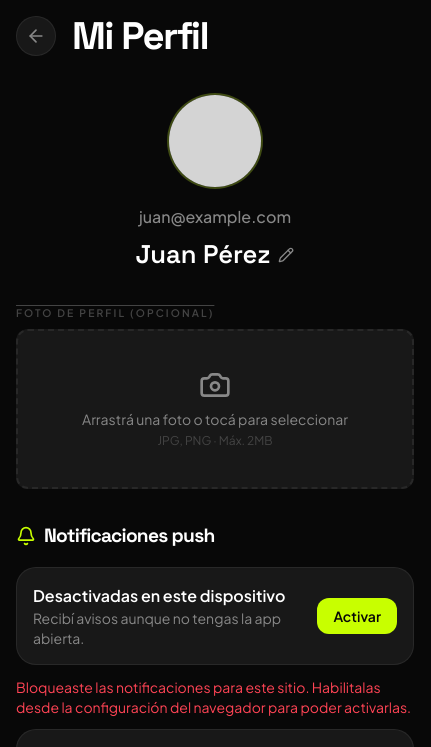
Test case: ProfileView › cancels name editing
Expected: the text "Juan Pérez" is shown, top-left (136, 237), bottom-right (270, 273)
Click the button "Juan Pérez".
click(215, 255)  # box top-left (55, 237), bottom-right (375, 273)
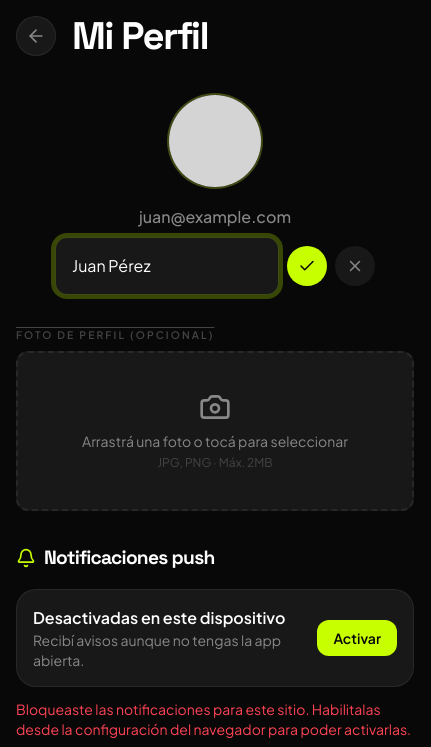
Click the button named "Cancelar edición".
click(355, 266)  # box top-left (335, 246), bottom-right (375, 286)
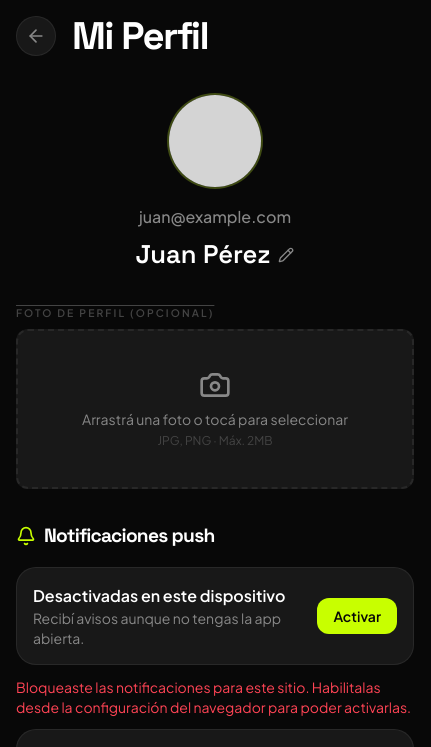
Result: the text "Juan Pérez" is shown at top-left (136, 237), bottom-right (270, 273)
